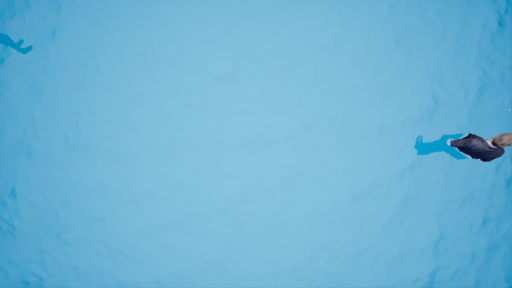person: (416, 131, 512, 169)
